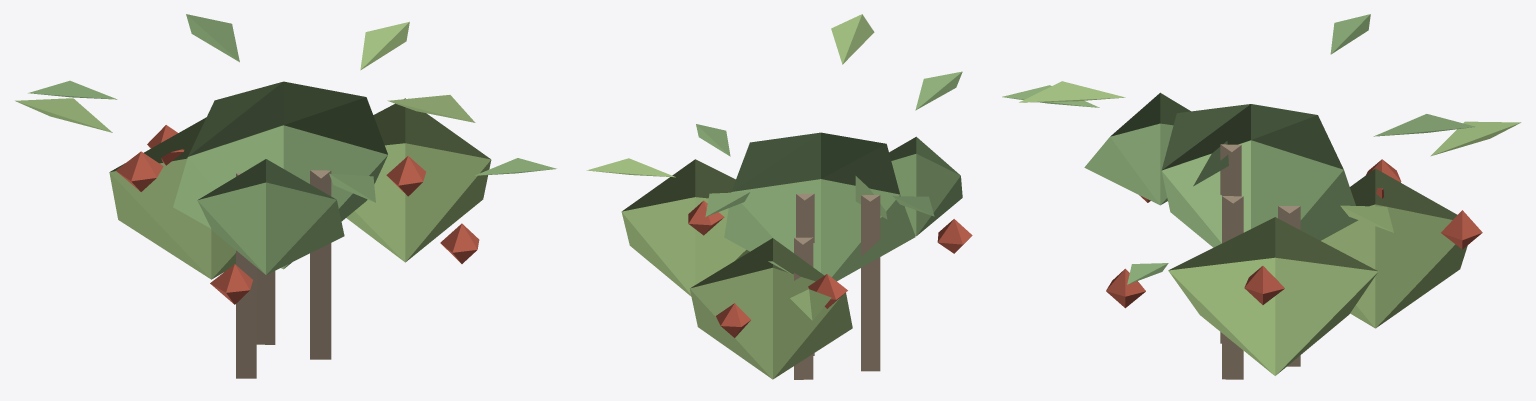
File: guan.zhen@fruiting__spring.glb
The picture shows the model from 3 angles, left to right: view 1: azimuth 30°, elevation 25°; view 2: azimuth 150°, elevation 25°; view 3: azimuth 270°, elevation 25°; orthographic projection. The views are drawn at different scales.
Parts seen in each view (by area): view 1: guan.zhen@fruiting__spring; view 2: guan.zhen@fruiting__spring; view 3: guan.zhen@fruiting__spring.
Boxes of the visible parts, bbox=[...] form: guan.zhen@fruiting__spring: bbox=[15, 14, 556, 378]; guan.zhen@fruiting__spring: bbox=[586, 14, 972, 379]; guan.zhen@fruiting__spring: bbox=[1002, 14, 1521, 379].
Size of the model in its own units: 2.66 by 1.93 by 2.98.
